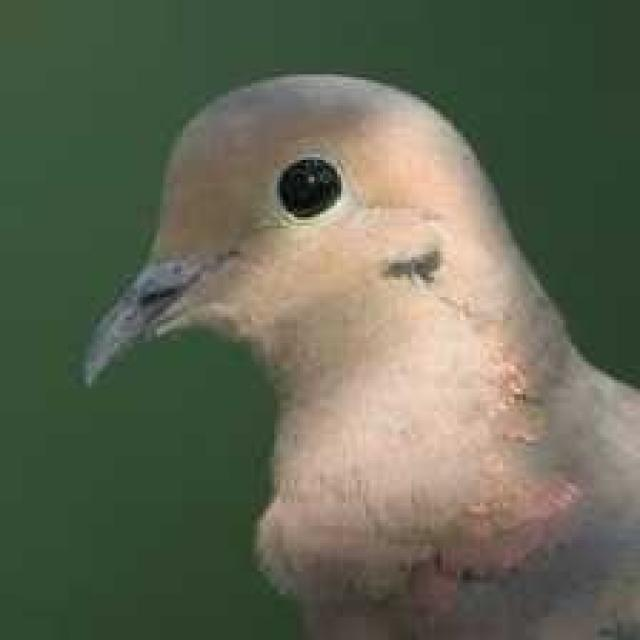bird: (66, 52, 640, 640)
